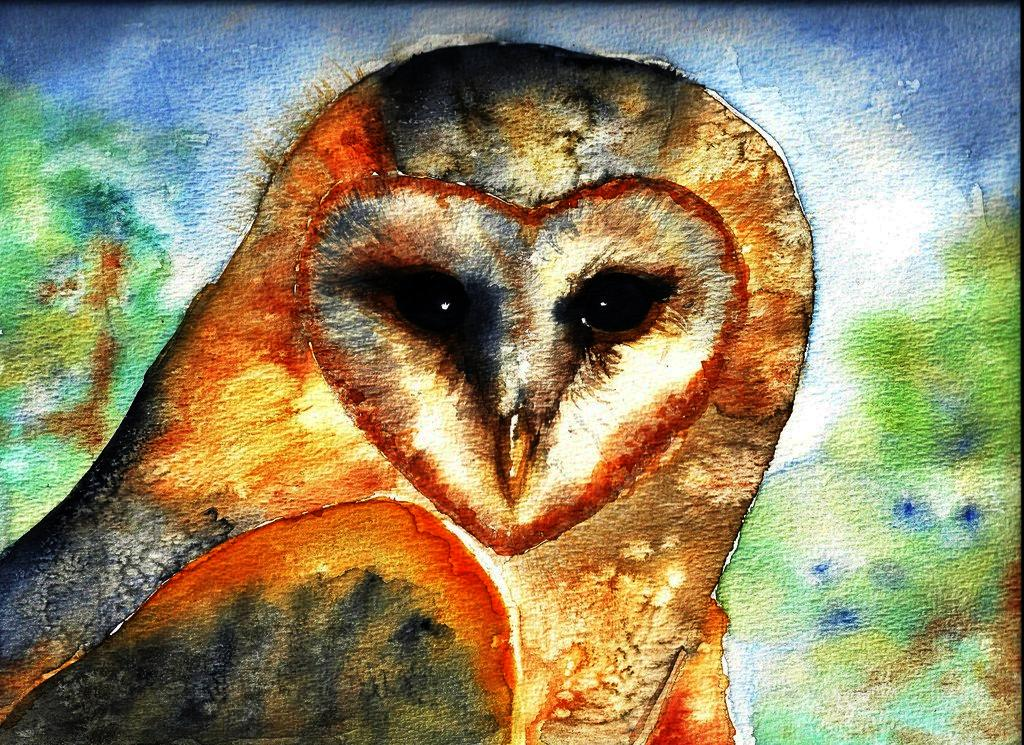Owl: (0, 40, 828, 744)
